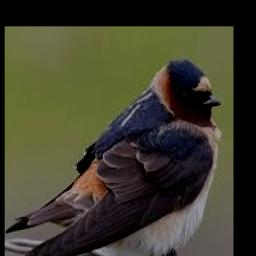Swallow: (5, 59, 222, 256)
